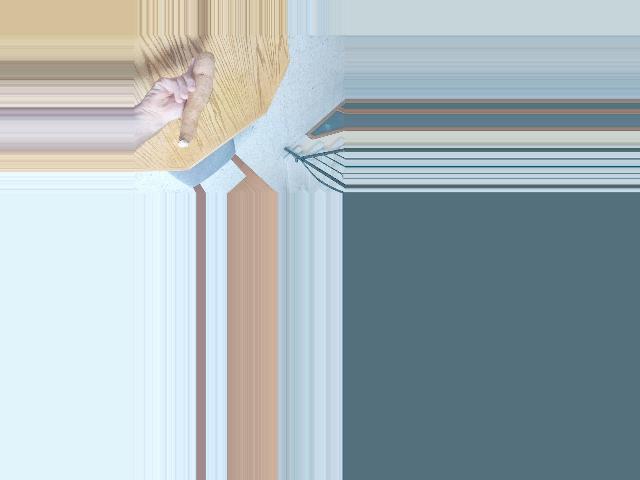sweet_potato: (176, 53, 218, 149)
